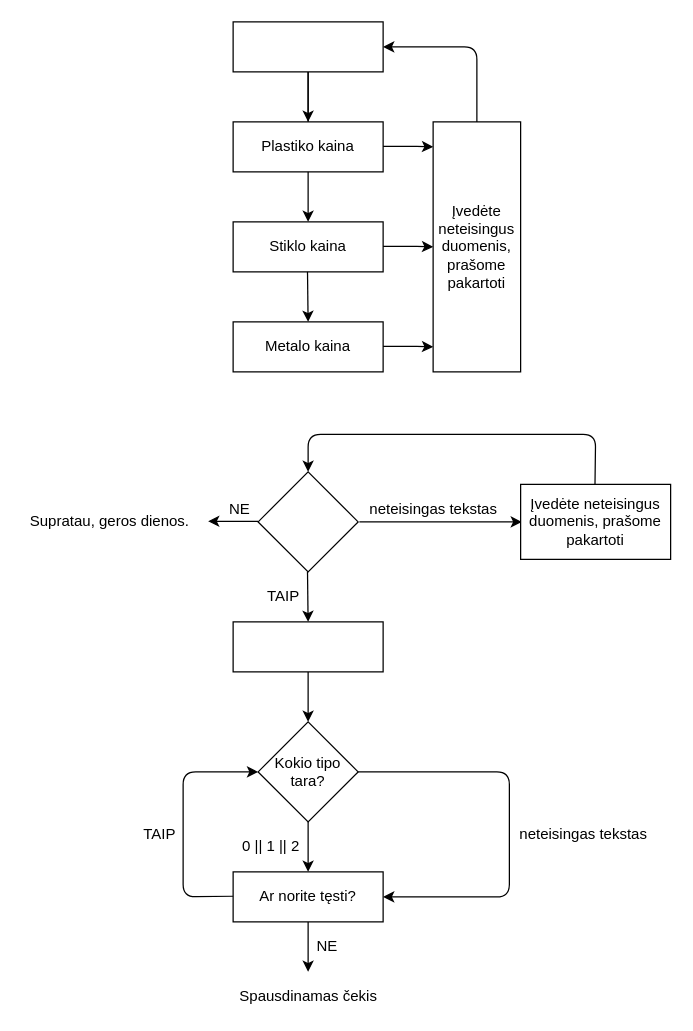
Image size: 693x1031. Some labels were removed from this diagram. Each missing label, with the box of its shape:
Ar norite pradėti?: (257, 471, 358, 572)
Pradėkite mesti tarą: (232, 621, 383, 672)
Įveskite (taros) kainą: (232, 21, 383, 72)
